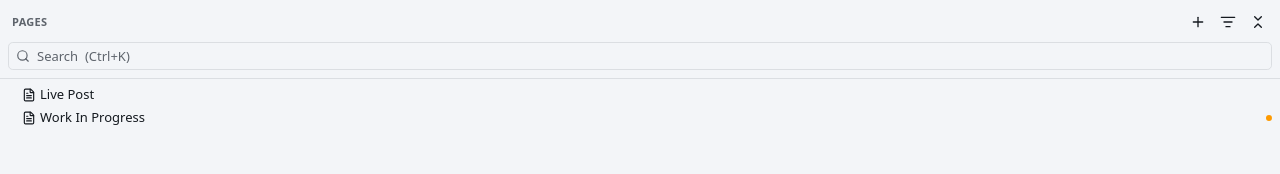
Scenario: Sidebar › says so when nothing matches
Type "zzz" into the search field. click: (640, 56)
box: [8,42,1272,70]
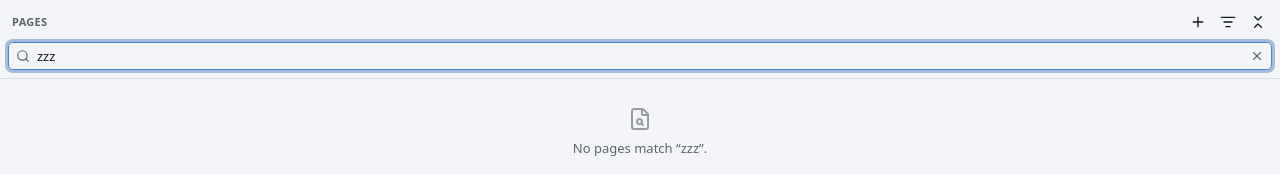
Expected: the text "No pages match “zzz”." is shown, [573,139,707,158]
